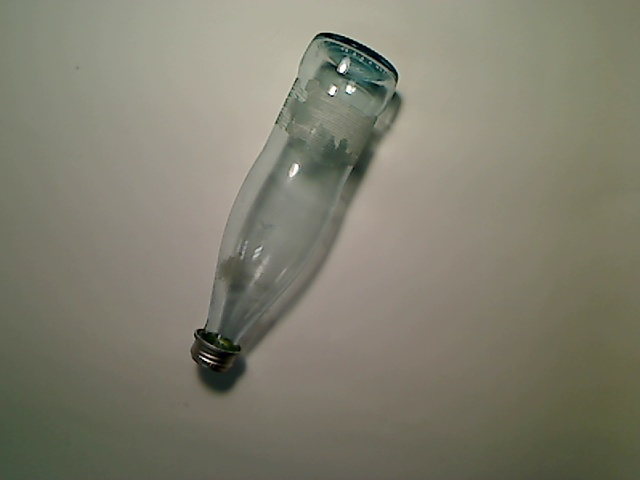bottle: (189, 30, 399, 374)
